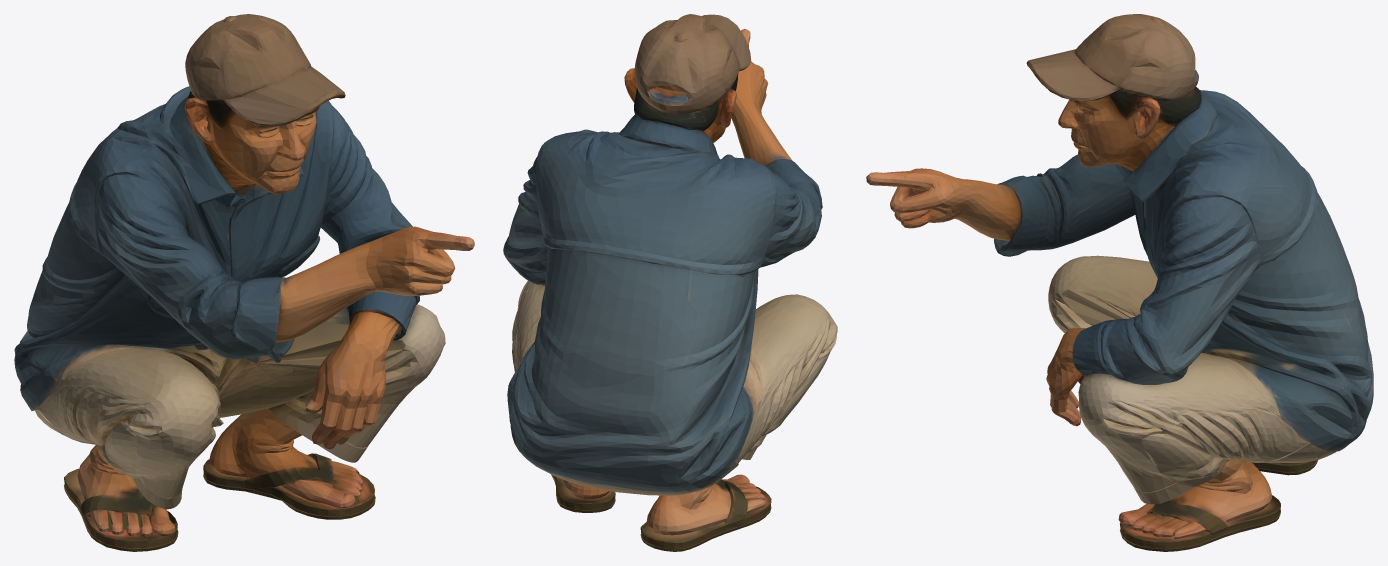
The picture shows the model from 3 angles, left to right: view 1: azimuth 30°, elevation 25°; view 2: azimuth 150°, elevation 25°; view 3: azimuth 270°, elevation 25°; orthographic projection. The views are drawn at different scales.
Visible parts, largest first — view 1: texture_pbr_v128; view 2: texture_pbr_v128; view 3: texture_pbr_v128.
Part boxes in pixels (<box>): texture_pbr_v128: <box>14,14,474,551</box>; texture_pbr_v128: <box>503,14,837,551</box>; texture_pbr_v128: <box>866,14,1373,551</box>.
Bounding box in the file's own units: 0.6178 × 0.9094 × 0.8851.
Materials: 1 (1 with a texture image).
